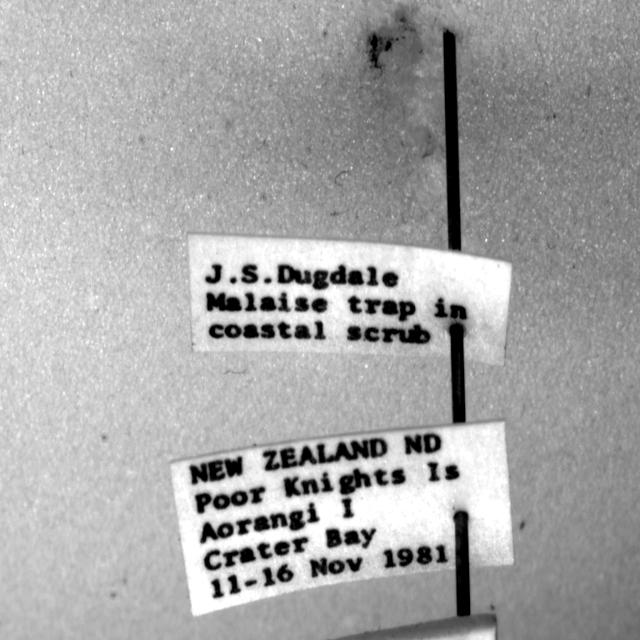typed_label: (171, 422, 514, 615), (189, 234, 511, 366)
